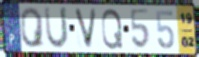5: (129, 8, 152, 52), (155, 9, 176, 51)
Q: (19, 7, 46, 49), (100, 8, 125, 51)
U: (43, 6, 70, 52)
V: (72, 7, 99, 50)
